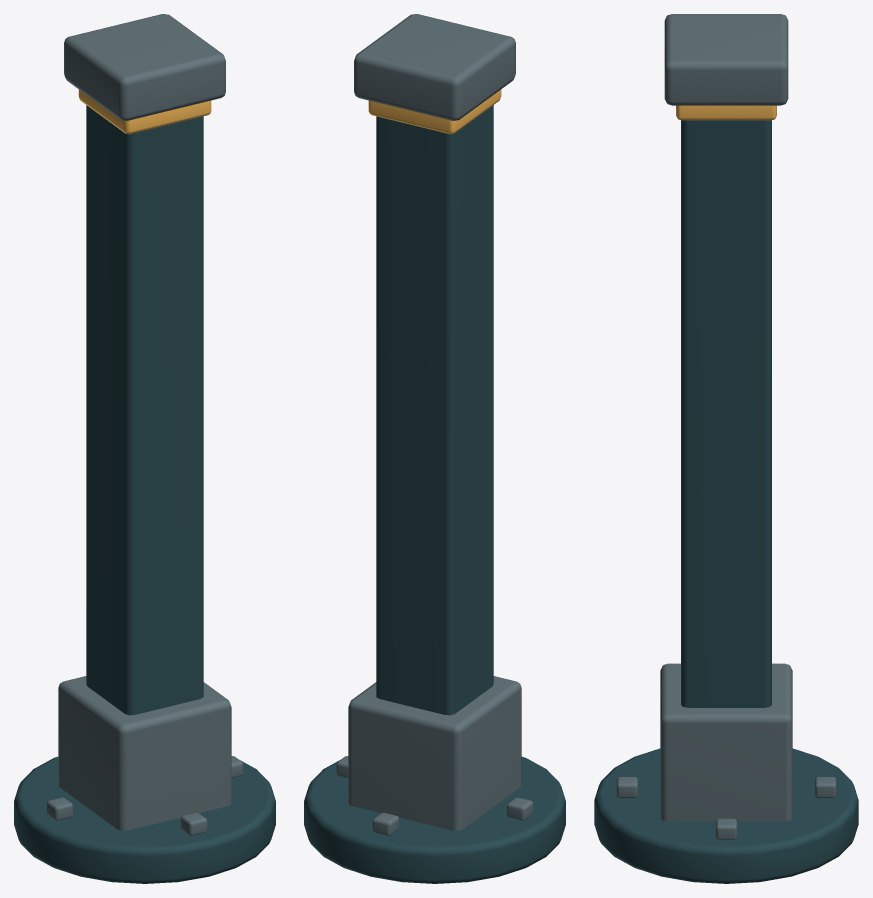
Rendered from city_quay_furniture_02_post_landward.glb.
3 renders of one model, left to right at view 1: azimuth 30°, elevation 25°; view 2: azimuth 150°, elevation 25°; view 3: azimuth 270°, elevation 25°, orthographic.
Visible parts, largest first — view 1: CityQuayFurniture02_post_landward_Mesh; view 2: CityQuayFurniture02_post_landward_Mesh; view 3: CityQuayFurniture02_post_landward_Mesh.
Part boxes in pixels (x1,y1,x2,y2): CityQuayFurniture02_post_landward_Mesh: [14, 14, 275, 883]; CityQuayFurniture02_post_landward_Mesh: [304, 14, 565, 883]; CityQuayFurniture02_post_landward_Mesh: [594, 14, 858, 883].
Size of the model in its own units: 0.32 by 1.06 by 0.32.
